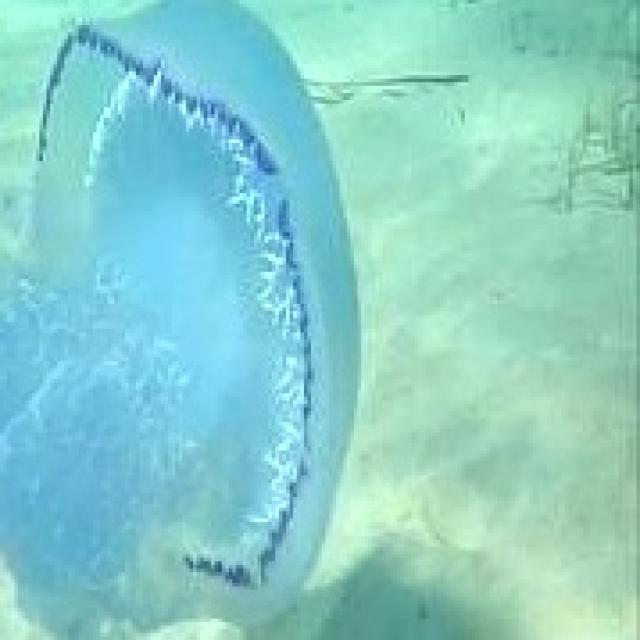Box-jellyfish: (0, 0, 364, 636)
